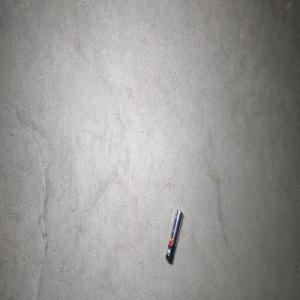Battery: (165, 208, 183, 264)
